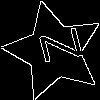Z: (29, 26, 83, 68)
